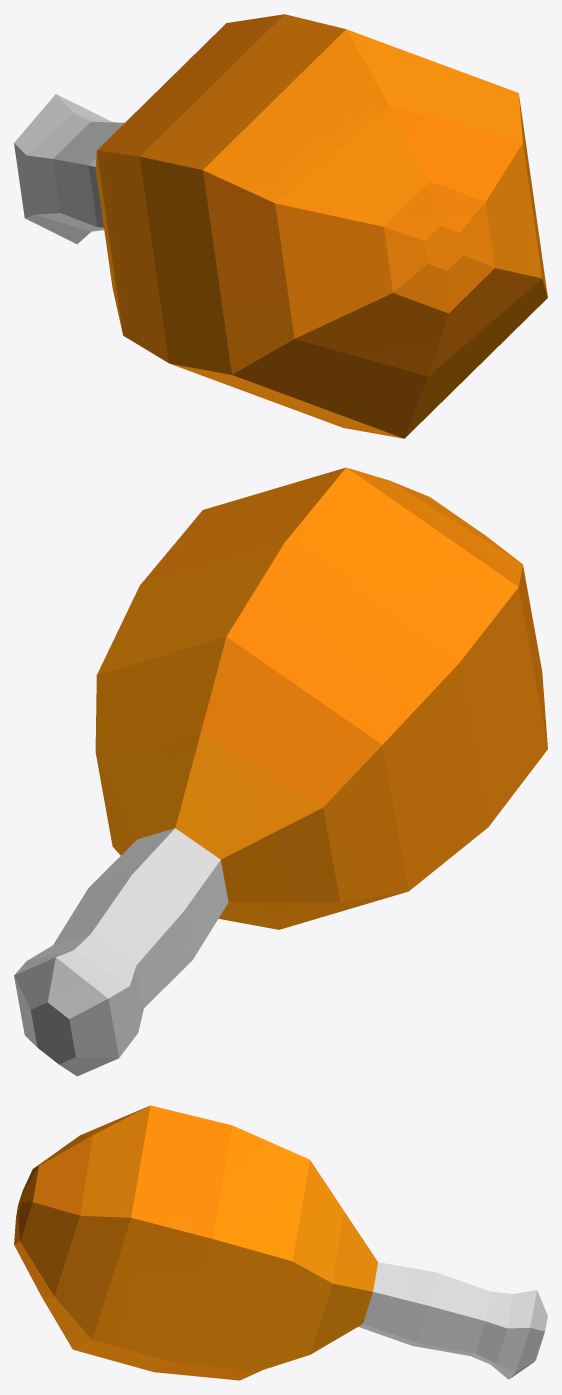
File: Chicken_Drumstick.fbx
The picture shows the model from 3 angles, top to bottom: view 1: azimuth 30°, elevation 25°; view 2: azimuth 150°, elevation 25°; view 3: azimuth 270°, elevation 25°; orthographic projection. The views are drawn at different scales.
Parts seen in each view (by area): view 1: Chicken Drumstick; view 2: Chicken Drumstick; view 3: Chicken Drumstick.
Part boxes in pixels (<box>): Chicken Drumstick: <box>14,14,547,438</box>; Chicken Drumstick: <box>14,467,547,1076</box>; Chicken Drumstick: <box>14,1105,547,1380</box>.
Size of the model in its own units: 3.73 by 4.62 by 8.12.
